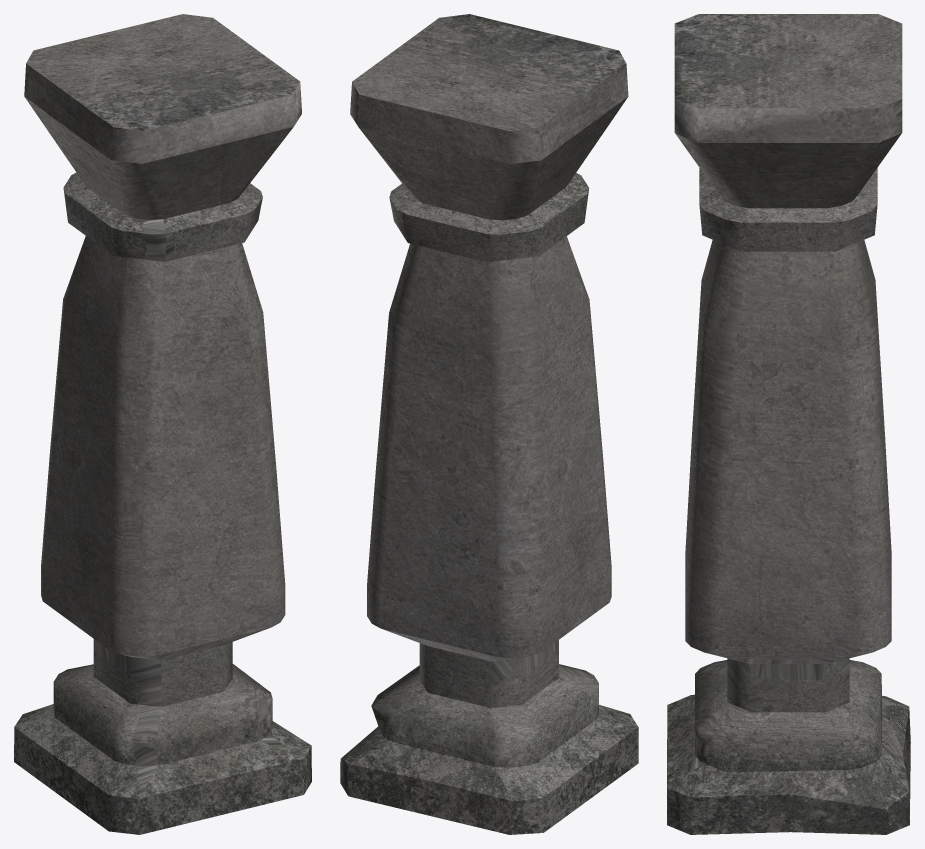
File: Pillar_Boss_1.fbx
3 views of the same model, side by side, from view 1: azimuth 30°, elevation 25°; view 2: azimuth 150°, elevation 25°; view 3: azimuth 270°, elevation 25° (orthographic). The views are drawn at different scales.
Visible parts, largest first — view 1: Pillar_Boss_1; view 2: Pillar_Boss_1; view 3: Pillar_Boss_1.
Boxes of the visible parts, x1=… form: Pillar_Boss_1: x1=14, y1=14, x2=311, y2=834; Pillar_Boss_1: x1=340, y1=14, x2=638, y2=834; Pillar_Boss_1: x1=667, y1=14, x2=910, y2=834.
Size of the model in its own units: 1.75 by 5.77 by 1.76.
1 material, 1 textured.
